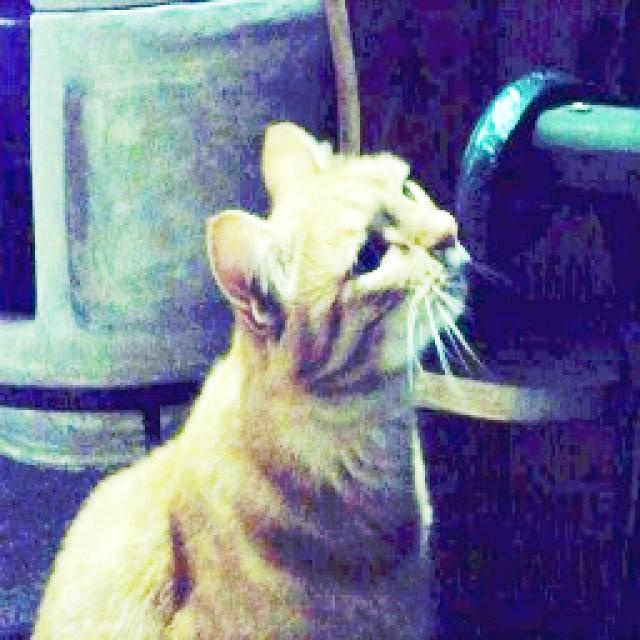cat: (14, 108, 477, 640)
